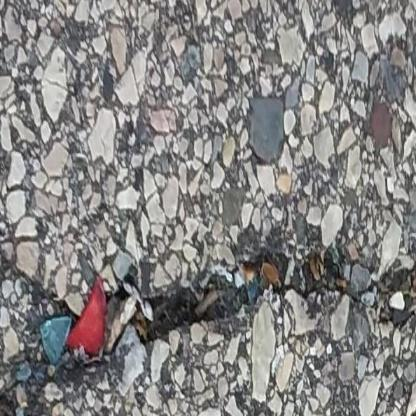Cracks: (0, 226, 416, 416)
